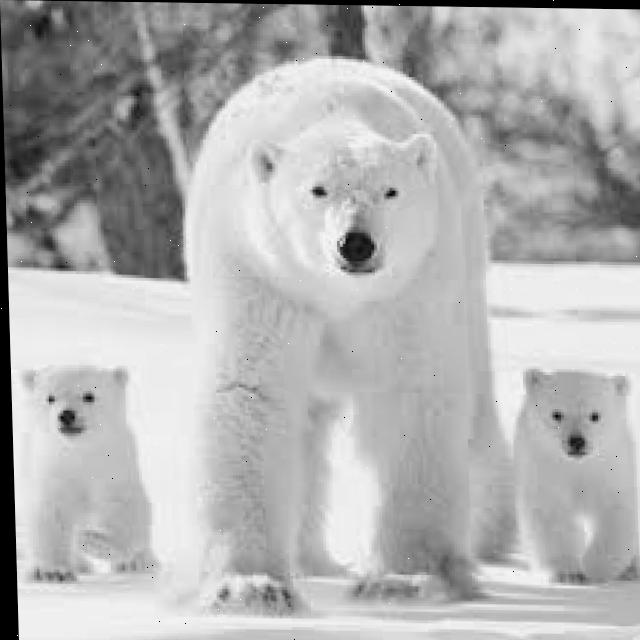Bear: (181, 72, 487, 580), (25, 360, 145, 586), (524, 362, 640, 587)
